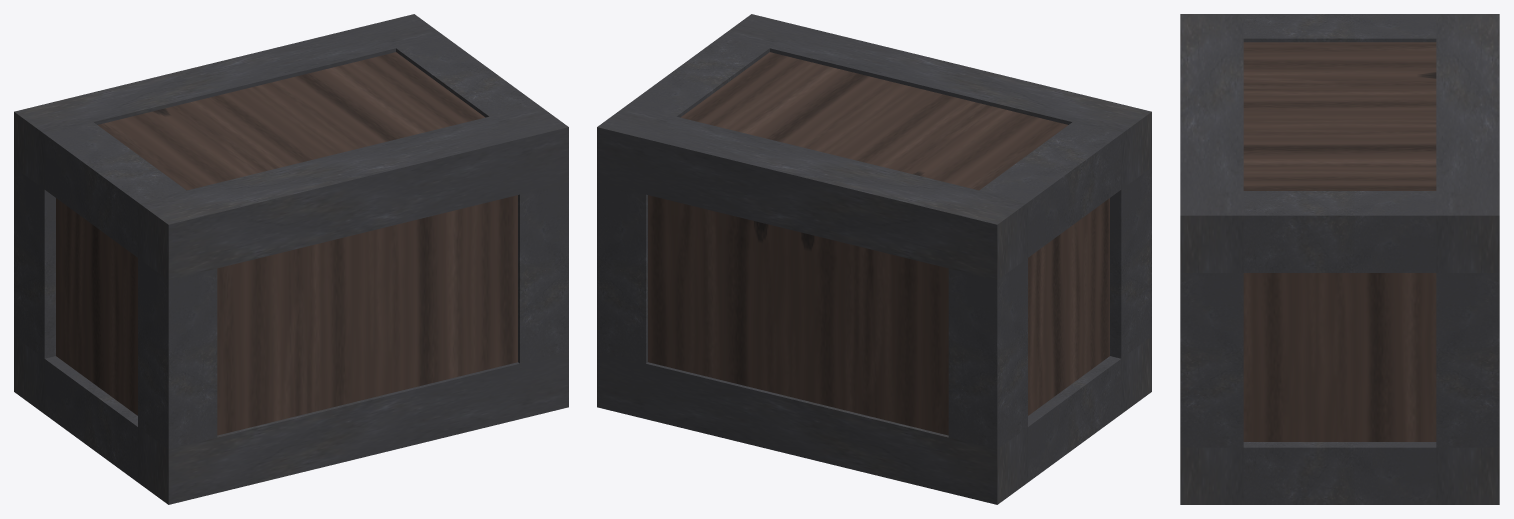
File: ScatterBoxB01.fbx
3 renders of one model, left to right at view 1: azimuth 30°, elevation 25°; view 2: azimuth 150°, elevation 25°; view 3: azimuth 270°, elevation 25°, orthographic. The views are drawn at different scales.
Visible parts, largest first — view 1: ScatterBoxB01; view 2: ScatterBoxB01; view 3: ScatterBoxB01.
Part boxes in pixels (x1,y1,x2,y2): ScatterBoxB01: [14, 14, 568, 504]; ScatterBoxB01: [597, 14, 1151, 504]; ScatterBoxB01: [1180, 14, 1499, 504].
Bounding box in the file's own units: 123 × 82.2 × 82.2.
